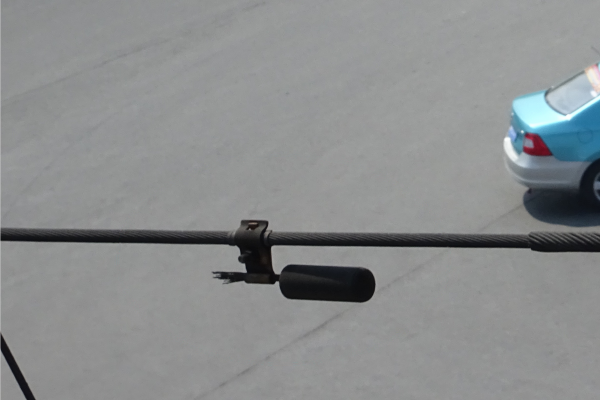damper_defect: (205, 216, 377, 304)
